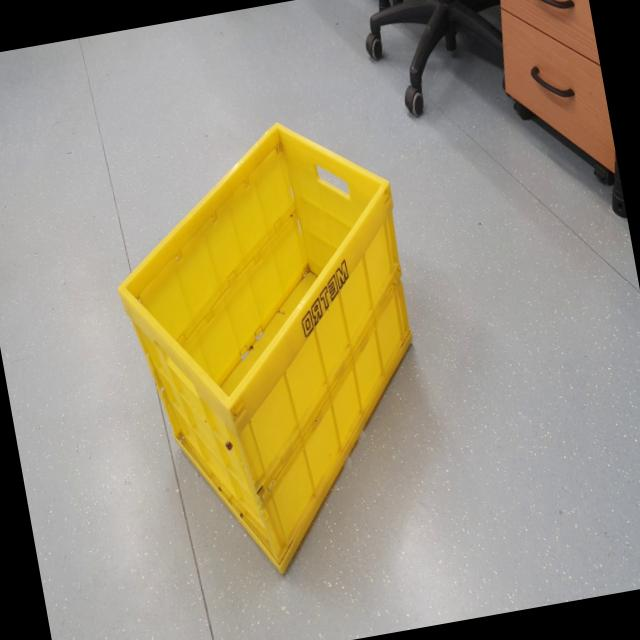box: (86, 92, 462, 599)
